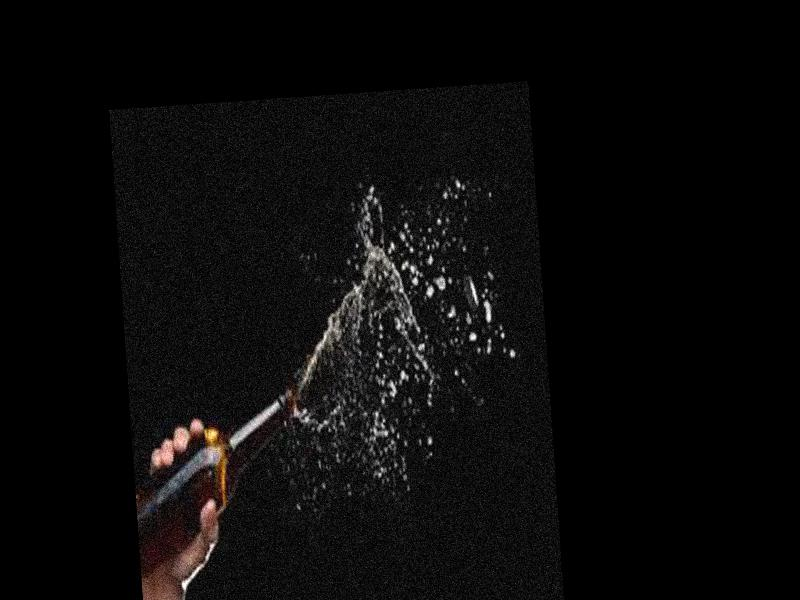Beer: (130, 384, 306, 582)
